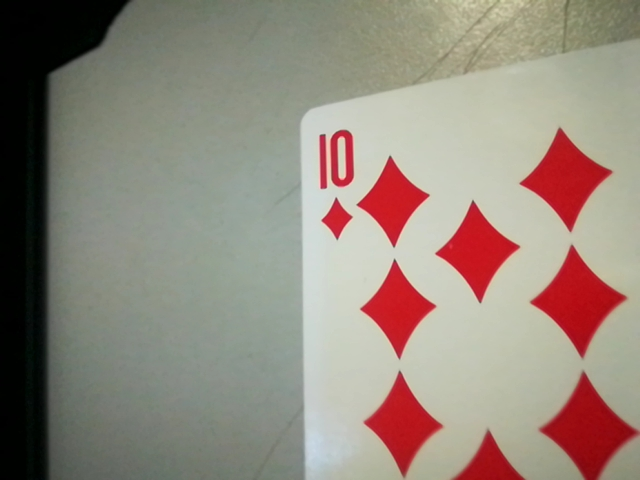fk 10: (303, 120, 363, 243)
